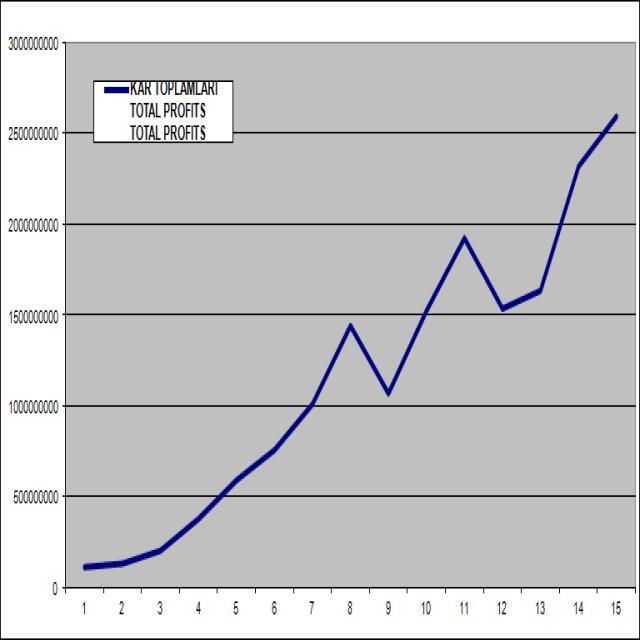axis: (57, 581, 640, 597), (58, 26, 70, 597)
line: (81, 110, 622, 573)
